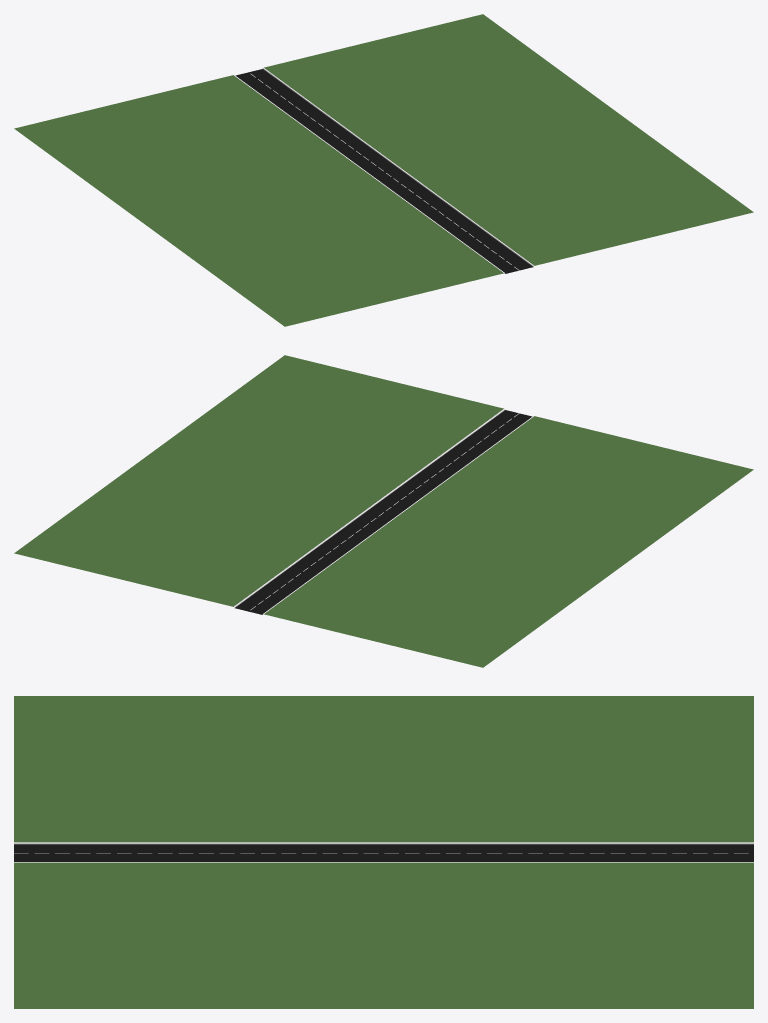
Rendered from ground.glb.
3 renders of one model, top to bottom at view 1: azimuth 30°, elevation 25°; view 2: azimuth 150°, elevation 25°; view 3: azimuth 270°, elevation 25°, orthographic. The views are drawn at different scales.
Visible parts, largest first — view 1: Ground; view 2: Ground; view 3: Ground.
Part boxes in pixels (x1,y1,x2,y2): Ground: [14, 14, 753, 326]; Ground: [14, 355, 753, 667]; Ground: [14, 696, 753, 1008].
Bounding box in the file's own units: 100 × 0.2 × 100.
